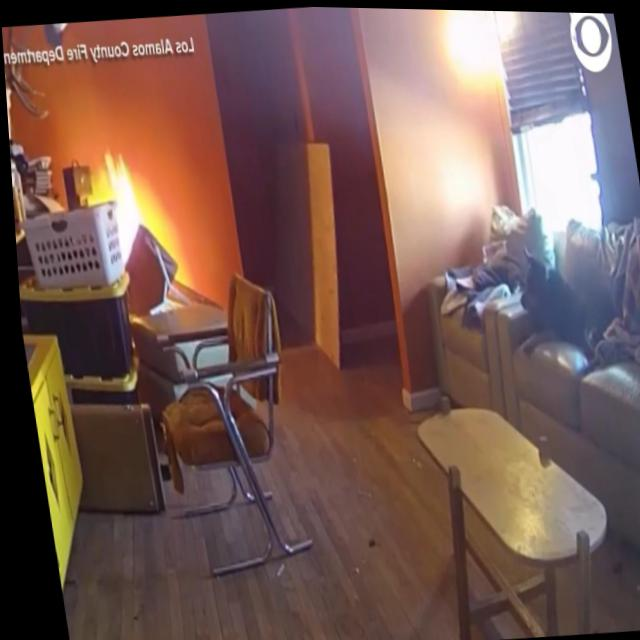fire: (74, 142, 144, 273)
